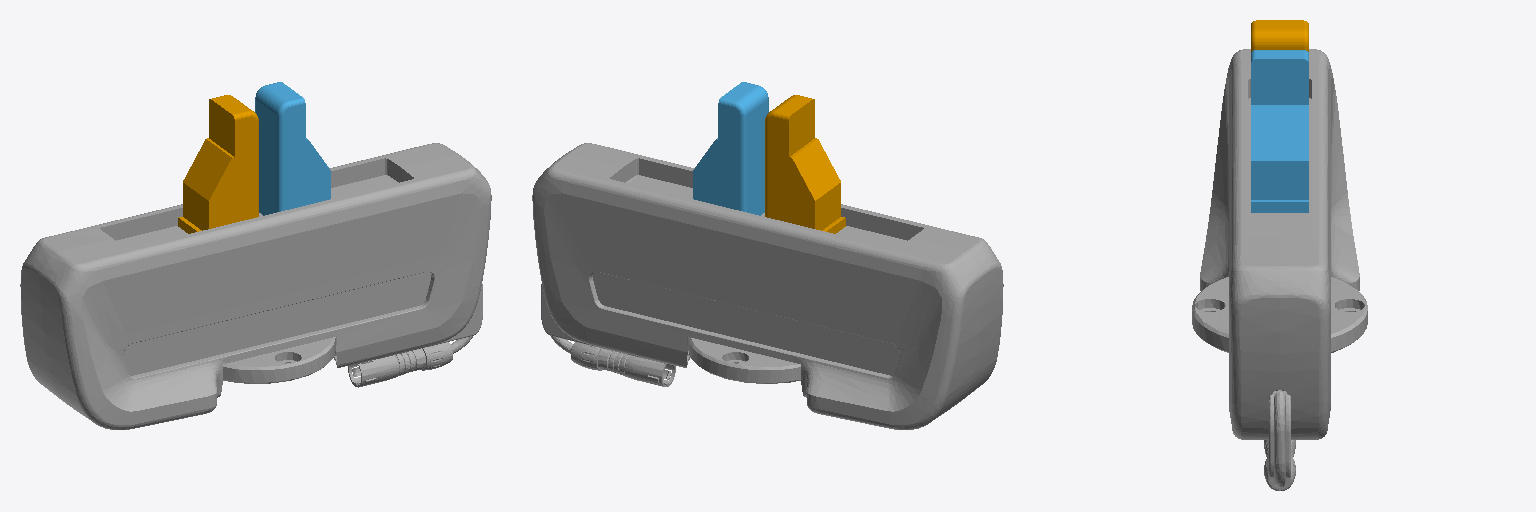
The robot description file, URDF, robot "panda":
<?xml version="1.0" ?>
<robot name="panda" xmlns:xacro="http://www.ros.org/wiki/xacro">

	<link name="world">
	</link>

	<joint name="arm_joint1" type="prismatic">
		<parent link="world"/>
		<child link="pris_link1"/>
		<origin rpy="0.0 0.0 0.0" xyz="0.0 0.0 0.0"/>
		<axis xyz="1 0 0"/>
		<dynamics damping="10.0" friction="0.0"/>
		<limit lower="-1" upper="1" velocity="1e9" effort="1e9"/>
	</joint>


  	<link name="pris_link1">
		<inertial>
		  <mass value="0.001"/>
		  <inertia ixx="0.1" iyy="0.1" izz="0.1" ixy="0.0" ixz="0.0" iyz="0.0"/>
		</inertial>  
	</link>

	<joint name="arm_joint2" type="prismatic">
		<parent link="pris_link1"/>
		<child link="pris_link2"/>
		<origin rpy="0.0 0.0 0.0" xyz="0.0 0.0 0.0"/>
		<axis xyz="0 1 0"/>
		<dynamics damping="10.0" friction="0.0"/>
		<limit lower="-1" upper="1" velocity="1e9" effort="1e9"/>
	</joint>


  	<link name="pris_link2">
		<inertial>
		  <mass value="0.001"/>
		  <inertia ixx="0.1" iyy="0.1" izz="0.1" ixy="0.0" ixz="0.0" iyz="0.0"/>
		</inertial>  
	</link>


	<joint name="arm_joint3" type="prismatic">
		<parent link="pris_link2"/>
		<child link="rev_linkx"/>
		<origin rpy="0.0 0.0 0.0" xyz="0.0 0.0 0.0"/>
		<axis xyz="0 0 1"/>
		<dynamics damping="10.0" friction="0.0"/>
		<limit lower="-1" upper="1" velocity="1e9" effort="1e9"/>
	</joint>


  	<link name="rev_linkx">
		<inertial>
		  <mass value="0.001"/>
		  <inertia ixx="0.1" iyy="0.1" izz="0.1" ixy="0.0" ixz="0.0" iyz="0.0"/>
		  <origin rpy="0 0 0" xyz="0.0 0.0 0.0"/>
		</inertial>  
	</link>


	<joint name="rev_jointz" type="revolute">
		<axis xyz="0 0 1"/>
		<dynamics damping="10.0" friction="0.0"/>
		<limit effort="1e9" lower="-3.14" upper="3.14" velocity="1e9"/>
		<origin rpy="0 0 0" xyz="0.0 0.0 0.112"/>
		<parent link="rev_linkx"/>
		<child link="rev_linky"/>
	</joint>



  	<link name="rev_linky">
		<inertial>
		  <mass value="0.001"/>
		  <inertia ixx="0.1" iyy="0.1" izz="0.1" ixy="0.0" ixz="0.0" iyz="0.0"/>
		  <origin rpy="0 0 0" xyz="0.0 0.0 0.0"/>

		</inertial>  
	</link>


	<joint name="rev_jointy" type="revolute">
		<axis xyz="0 1 0"/>
		<dynamics damping="10.0" friction="0.0"/>
		<limit effort="1e9" lower="-3.14" upper="3.14" velocity="1e9"/>
		<origin rpy="0 0 0" xyz="0.0 0.0 -0.0"/>
		<parent link="rev_linky"/>
		<child link="rev_linkz"/>
	</joint>

  	<link name="rev_linkz">
		<inertial>
		  <mass value="0.001"/>
		  <inertia ixx="0.1" iyy="0.1" izz="0.1" ixy="0.0" ixz="0.0" iyz="0.0"/>
		</inertial>  
	</link>


	<joint name="rev_jointx" type="revolute">
		<axis xyz="1 0 0"/>
		<dynamics damping="10.0" friction="0.0"/>
		<limit effort="1e9.0" lower="-3.14" upper="3.14" velocity="1e9"/>
		<origin rpy="0 0 0" xyz="0.0 0.0 -0.0"/>
		<parent link="rev_linkz"/>
		<child link="rev_link_twist"/>
	</joint>


  	<link name="rev_link_twist">
		<inertial>
		  <mass value="0.001"/>
		  <inertia ixx="0.1" iyy="0.1" izz="0.1" ixy="0.0" ixz="0.0" iyz="0.0"/>
		</inertial>  
	</link>


	<joint name="rev_twist" type="revolute">
		<axis xyz="0 0 1"/>
		<dynamics damping="10.0" friction="0.0"/>
		<limit effort="1e9" lower="-3.14" upper="3.14" velocity="1e9"/>
		<origin rpy="0 0 0" xyz="0.0 -0.0 0.0"/>
		<parent link="rev_link_twist"/>
		<child link="rev_link1"/>
	</joint>

  	<link name="rev_link1">
		<inertial>
		  <mass value="0.001"/>
		  <inertia ixx="0.1" iyy="0.1" izz="0.1" ixy="0.0" ixz="0.0" iyz="0.0"/>
		  <origin rpy="0 0 0" xyz="0.0 0.0 0.0"/>
		</inertial>  
	</link>



	<joint name="rev_joint1" type="revolute">
		<axis xyz="0 0 1"/>
		<dynamics damping="10.0" friction="0.0"/>
		<limit effort="1e9" lower="-3.14" upper="3.14" velocity="1e9"/>
		<origin rpy="0 0 0" xyz="0.0 0.0 -0.112"/>
		<parent link="rev_link1"/>
		<child link="rev_link2"/>
	</joint>

  	<link name="rev_link2">
		<inertial>
		  <mass value="0.001"/>
		  <inertia ixx="0.1" iyy="0.1" izz="0.1" ixy="0.0" ixz="0.0" iyz="0.0"/>
		</inertial>  
	</link>


	<joint name="rev_joint2" type="revolute">
		<axis xyz="0 1 0"/>
		<limit effort="1e9" lower="-3.14" upper="3.14" velocity="1e9"/>
		<origin rpy="0 0 0" xyz="0.0 0.0 0.0"/>
		<parent link="rev_link2"/>
		<child link="rev_link3"/>
	</joint>


	<link name="rev_link3">
		<inertial>
		  <mass value="0.001"/>
		  <inertia ixx="0.1" iyy="0.1" izz="0.1" ixy="0.0" ixz="0.0" iyz="0.0"/>
		</inertial>  
	</link>

	<joint name="rev_joint3" type="revolute">
		<axis xyz="1 0 0"/>
		<dynamics damping="10.0" friction="0.0"/>
		<limit effort="1e9" lower="-3.14" upper="3.14" velocity="1e9"/>
		<origin rpy="0 0 0" xyz="0.0 0.0 -0.0"/>
		<parent link="rev_link3"/>
		<child link="slide_x"/>
	</joint>

	<link name="slide_x">
		<inertial>
		  <mass value="0.001"/>
		  <inertia ixx="0.1" iyy="0.1" izz="0.1" ixy="0.0" ixz="0.0" iyz="0.0"/>
		</inertial>  
	</link>

	<joint name="slide_jointx" type="prismatic">
		<parent link="slide_x"/>
		<child link="slide_y"/>
		<origin rpy="0.0 0.0 0.0" xyz="0.0 0.0 0.0"/>
		<axis xyz="1 0 0"/>
		<dynamics damping="10.0" friction="0.0"/>
		<limit lower="-1" upper="1" velocity="1e9" effort="1e9"/>
	</joint>


  	<link name="slide_y">
		<inertial>
		  <mass value="0.001"/>
		  <inertia ixx="0.1" iyy="0.1" izz="0.1" ixy="0.0" ixz="0.0" iyz="0.0"/>
		</inertial>  
	</link>

	<joint name="slide_jointy" type="prismatic">
		<parent link="slide_y"/>
		<child link="slide_z"/>
		<origin rpy="0.0 0.0 0.0" xyz="0.0 0.0 0.0"/>
		<axis xyz="0 1 0"/>
		<dynamics damping="10.0" friction="0.0"/>
		<limit lower="-1" upper="1" velocity="1e9" effort="1e9"/>
	</joint>


  	<link name="slide_z">
		<inertial>
		  <mass value="0.001"/>
		  <inertia ixx="0.1" iyy="0.1" izz="0.1" ixy="0.0" ixz="0.0" iyz="0.0"/>
		</inertial>  
	</link>


	<joint name="slide_jointz" type="prismatic">
		<parent link="slide_z"/>
		<child link="dummy_link"/>
		<origin rpy="0.0 0.0 0.0" xyz="0.0 0.0 0.0"/>
		<axis xyz="0 0 1"/>
		<dynamics damping="10.0" friction="0.0"/>
		<limit lower="-1" upper="1" velocity="1e9" effort="1e9"/>
	</joint>

	<link name="dummy_link">
	</link>

	<joint name="dummy_joint" type="prismatic">
		<parent link="dummy_link"/>
		<child link="panda_hand"/>
		<axis xyz="0 0 1"/>
		<origin rpy="0.0 0.0 0.0" xyz="0.0 0.0 0.0"/>
		<dynamics damping="10.0" friction="0.0"/>
		<limit lower="-0.1" upper="0.1" velocity="1e9" effort="1e9"/>
	</joint>


	<link name="panda_hand">
		<inertial>
		  <mass value="0.001"/>
		  <inertia ixx="0.1" iyy="0.1" izz="0.1" ixy="0.0" ixz="0.0" iyz="0.0"/>
		  <origin rpy="0.0 0.0 0.0" xyz="0.0 0.0 0.0"/>
		</inertial>  
	</link>

	<joint name="panda_hand_joint" type="fixed">
		<parent link="panda_hand"/>
		<child link="panda_hand_vis"/>
		<origin rpy="0.0 0.0 1.57079642071591" xyz="0.0 0.0 0.0"/>
		<dynamics damping="10.0" friction="0.0"/>
		<limit lower="-0.1" upper="0.1" velocity="1e9" effort="1e9"/>
	</joint>

	<link name="panda_hand_vis">
    		<visual>
      			<geometry>
        			<mesh filename="hand_only/meshes/visual/hand.obj"/>
      			</geometry>
    		</visual>
    		<collision>
      			<geometry>
        			<mesh filename="package://hand_only/meshes/collision/hand.obj"/>
      			</geometry>
    		</collision>
		<inertial>
			<mass value="1.0"/>
			<inertia ixx="0.1" iyy="0.1" izz="0.1" ixy="0.0" ixz="0.0" iyz="0.0"/>
		</inertial>
  	</link>

	<joint name="panda_left_finger_joint" type="prismatic">
		<origin rpy="0.0 0.0 0.0" xyz="0.0 0.0 0.0"/>
		<parent link="panda_hand_vis"/>
		<child link="panda_left_finger_rigid"/>
		<axis xyz="0 1 0"/>
		<dynamics damping="100.0" friction="0.0"/>
    		<limit lower="-0.005" upper="0.04" velocity="1e9" effort="1e9"/>
	</joint>

	<joint name="panda_right_finger_joint" type="prismatic">
		<origin rpy="0.0 0.0 0.0" xyz="0.0 0.0 0.0"/>
		<parent link="panda_hand_vis"/>
		<child link="panda_right_finger_rigid"/>
		<axis xyz="0 -1 0"/>
		<dynamics damping="100.0" friction="0.0"/>
    		<limit lower="-0.005" upper="0.04" velocity="1e9" effort="1e9"/>
	</joint>

	<link name="panda_left_finger_rigid"> 
		<visual>
			<origin rpy="0.0 0.0 0.0" xyz="0.0 0.0 0.0"/>
			<geometry>
		        	<mesh filename="hand_only/meshes/custom/full_filled_finger.obj"/>
      			</geometry>
    		</visual>
    		<collision>
			<origin rpy="0.0 0.0 0.0" xyz="0.0 0.0 0.0"/>
      			<geometry>
		        	<mesh filename="hand_only/meshes/custom/full_filled_finger.obj"/>
      			</geometry>
    		</collision>
		<inertial>
			<mass value="0.05"/>
			<inertia ixx="0.005" iyy="0.005" izz="0.005" ixy="0.0" ixz="0.0" iyz="0.0"/>
		</inertial>
  	</link>
	<link name="panda_right_finger_rigid">
		<visual>
			<origin rpy="0.0 0.0 3.14159265359" xyz="0.0 0.0 0.0"/>
			<geometry>
		        	<mesh filename="hand_only/meshes/custom/full_filled_finger.obj"/>
      			</geometry>
    		</visual>
    		<collision>
			<origin rpy="0.0 0.0 3.14159265359" xyz="0.0 0.0 0.0"/>
      			<geometry>
		        	<mesh filename="hand_only/meshes/custom/full_filled_finger.obj"/>
      			</geometry>
		</collision>
		<inertial>
			<mass value="0.05"/>
			<inertia ixx="0.005" iyy="0.005" izz="0.005" ixy="0.0" ixz="0.0" iyz="0.0"/>
		</inertial>
  	</link>

</robot>

--- Facts derived from the render (not from the file) ---
Views: 3 orthographic renders of the robot side by side, from view 1: azimuth 30°, elevation 25°; view 2: azimuth 150°, elevation 25°; view 3: azimuth 270°, elevation 25°.
Model panda with 18 links and 17 joints (7 revolute, 9 prismatic, 1 fixed), rooted at world, posed every joint at zero.
Visible links, largest first — view 1: panda_hand_vis, panda_left_finger_rigid, panda_right_finger_rigid; view 2: panda_hand_vis, panda_left_finger_rigid, panda_right_finger_rigid; view 3: panda_hand_vis, panda_right_finger_rigid, panda_left_finger_rigid.
Link boxes in pixels (x1,y1,x2,y2): panda_hand_vis: (20, 143, 491, 429); panda_left_finger_rigid: (178, 95, 258, 233); panda_right_finger_rigid: (255, 82, 330, 215); panda_hand_vis: (532, 143, 1003, 429); panda_left_finger_rigid: (765, 95, 845, 233); panda_right_finger_rigid: (693, 82, 768, 215); panda_hand_vis: (1192, 49, 1367, 490); panda_right_finger_rigid: (1251, 50, 1308, 212); panda_left_finger_rigid: (1251, 20, 1308, 51).
Size in the robot's own frame: 0.2045 by 0.063 by 0.1383 metres.
Meshes: 2 distinct files referenced, 3 mesh visuals loaded (2 OBJ).
